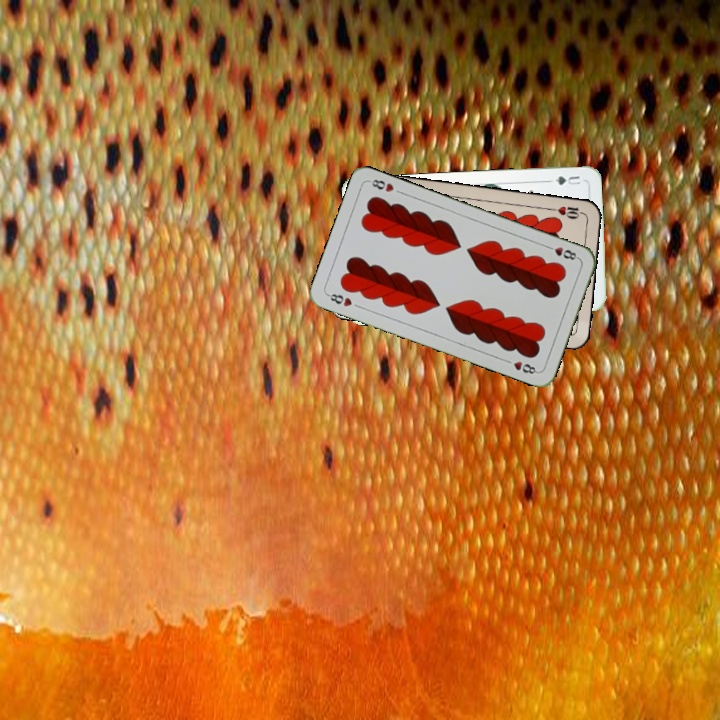GU: (551, 172, 583, 188)
H10: (547, 202, 588, 222)
H8: (542, 242, 581, 263), (323, 289, 355, 309)
